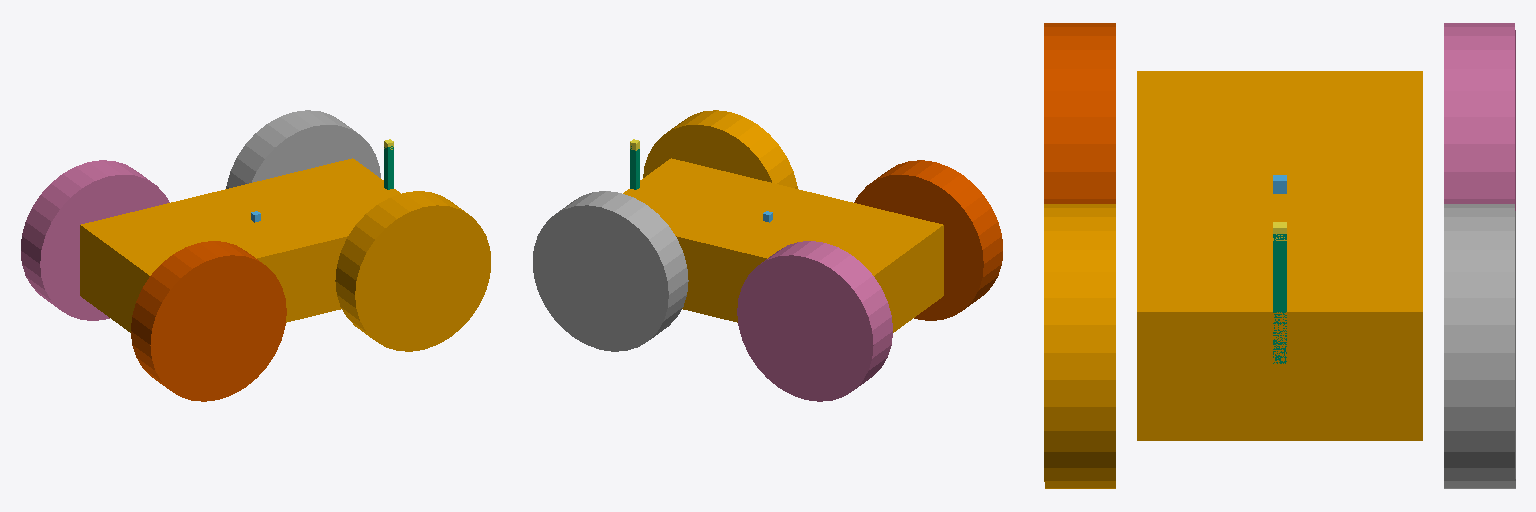
URDF robot description (capra_robot):
<?xml version="1.0" ?>
<robot name="capra_robot">

    <!-- Joint that fixes IMU centered on top of base link -->
    <joint name="capra_robot__IMU_joint" type="fixed">
        <!-- Parent = base_link -->
        <parent link="base_link" />
        <!-- Child = the IMU -->
        <child link="capra_robot__IMU" />
        
        <!-- Center in on the base link and on top
        knowing base_link is .1 in z axis geometry -->
        <origin rpy="0  0  0" xyz="0  0  0.135" />

        <!-- Auto-generated -->
        <axis xyz="0  0  1" />
        <limit effort="0" lower="0" upper="0" velocity="0" />
    </joint>

    <!-- Joint that fixes base_link to the sensor tower -->
    <joint name="capra_robot__sensor_tower_joint" type="fixed">

        <!-- Parent = base_link -->
        <parent link="base_link"/>
        <!-- Child = sensor tower -->
        <child link="capra_robot__sensor_tower"/>
        <!-- The base link is 0.2 units long, so we center
        the joint so that its edge ends at 0.2 units 
        and it is 0.22 units tall -->
        <origin rpy="0  0  0" xyz="0.195  0     0.16"/>

        <!-- Auto-generated -->
        <axis xyz="0  0  1"/>
        <limit effort="0" lower="0" upper="0" velocity="0"/>
    </joint>
    
    <!-- Joint that fixes the actual laser to the sensor tower -->
    <joint name="capra_robot__laser_joint" type="fixed">

        <parent link="capra_robot__sensor_tower" />
        <child link="capra_robot__laser" />

        <origin rpy="0  0  0" xyz="0  0  0.05" />

        <!-- Auto-generated -->
        <axis xyz="0  0  1"/>
        <limit effort="0" lower="0" upper="0" velocity="0"/>
    </joint>

    <!-- Joint that fixes the camera to the sensor tower -->
    <joint name="capra_robot__camera_joint" type="fixed">

        <parent link="capra_robot__sensor_tower" />
        <child link="capra_robot__camera" />

        <origin rpy="0  0  0" xyz="0  0  0.05" />

        <!-- Auto-generated -->
        <axis xyz="0  0  1"/>
        <limit effort="0" lower="0" upper="0" velocity="0"/>
    </joint>

    <!-- Joint around which the front-right wheel revolves around  -->
    <joint name="capra_robot__right_wheel_front_hinge" type="revolute">

        <!-- Parent = base_link -->
        <parent link="base_link"/>
        <!-- Child = front-right wheel -->
        <child link="capra_robot__right_wheel_front"/>
        <!-- The center of the wheel must be at 0.15, since its radius
        is 0.5 an must be within 0.1 to 0.2 of the base link's length 
        and is almost 0.1 units high from its center -->
        <origin rpy="0      1.5707  1.5707" xyz="0.14999 -0.17     0.09999"/>
        <!-- Revolution occurs around Y axis -->
        <axis xyz="0  0  1"/>

        <!-- Auto-generated -->
        <limit effort="-1.0" lower="-1.79769e+308" upper="1.79769e+308" velocity="-1.0"/>
    </joint>

    <!-- Joint around which the front-left wheel revolves around  -->
    <joint name="capra_robot__left_wheel_front_hinge" type="revolute">

        <!-- See capra_robot__right_wheel_front documentation  
        to understand following tags -->
        <parent link="base_link"/>
        <child link="capra_robot__left_wheel_front"/>
        <origin rpy="0      1.5707  1.5707" xyz="0.15  0.17  0.1"/>
        <axis xyz="0  0  1"/>
        <limit effort="-1.0" lower="-1.79769e+308" upper="1.79769e+308" velocity="-1.0"/>
    </joint>

    <!-- Joint around which the back-right wheel revolves around  -->
    <joint name="capra_robot__right_wheel_back_hinge" type="revolute">

        <!-- See capra_robot__right_wheel_front documentation  
        to understand following tags -->
        <parent link="base_link"/>
        <child link="capra_robot__right_wheel_back"/>
        <origin rpy="0      1.5707  1.5707" xyz="-0.15    -0.17     0.09999"/>
        <axis xyz="0  0  1"/>
        <limit effort="-1.0" lower="-1.79769e+308" upper="1.79769e+308" velocity="-1.0"/>
    </joint>

    <!-- Joint around which the back-left wheel revolves around  -->
    <joint name="capra_robot__left_wheel_back_hinge" type="revolute">

        <!-- See capra_robot__right_wheel_front documentation
        to understand following tags -->
        <parent link="base_link"/>
        <child link="capra_robot__left_wheel_back"/>
        <origin rpy="0      1.5707  1.5707" xyz="-0.14999  0.17     0.1"/>
        <axis xyz="0  0  1"/>
        <limit effort="-1.0" lower="-1.79769e+308" upper="1.79769e+308" velocity="-1.0"/>
    </joint>

    <!-- The robot's base link  -->
    <link name="base_link">

        <inertial>
            <mass value="23.124"/>
            <origin rpy="0  0  0" xyz="0   0   0.1"/>
            <inertia ixx="0.660306" ixy="-1.78746e-18" ixz="0" iyy="0.303669" iyz="8.59691e-17" izz="0.815602"/>
        </inertial>

        <collision name="capra_robot__collision">
            <origin rpy="0  0  0" xyz="0   0   0.1"/>
            <geometry>
                <box size=".4 .2 .1"/>
            </geometry>
        </collision>

        <visual name="capra_robot__visual">
            <origin rpy="0  0  0" xyz="0   0   0.1"/>
            <geometry>
                <box size=".4 .2 .1"/>
            </geometry>
        </visual>

    </link>

    <!-- IMU link -->
    <link name="capra_robot__IMU">

        <inertial>
            <mass value=".1"/>
            <origin rpy="0  0  0" xyz="0  0  0"/>
            <inertia ixx="0" ixy="0.0" ixz="0.0" iyy="0" iyz="0.0" izz="0" />
        </inertial>

        <collision name="capra_robot__collision">
            <origin rpy="0  0  0" xyz="0  0  0"/>
            <geometry>
                <box size=".01 .01 .05"/>
            </geometry>
        </collision>
        
        <visual name="capra_robot__visual">
            <origin rpy="0  0  0" xyz="0  0  0"/>
            <geometry>
                <box size=".01 .01 .05"/>
            </geometry>
        </visual>
    </link>

    <!-- The tower onto which the laser is located -->
    <link name="capra_robot__sensor_tower">
        
        <inertial>
            <mass value="1.0"/>
            <origin rpy="0  0  0" xyz="0  0  0"/>
            <inertia ixx="0" ixy="0.0" ixz="0.0" iyy="0" iyz="0.0" izz="0" />
        </inertial>
        
        <collision name="capra_robot__collision">
            <origin rpy="0  0  0" xyz="0  0  0"/>
            <geometry>
                <box size=".01 .01 .1"/>
            </geometry>
        </collision>
        
        <visual name="capra_robot__visual">
            <origin rpy="0  0  0" xyz="0  0  0"/>
            <geometry>
                <box size=".01 .01 .1"/>
            </geometry>
        </visual>
    </link>

    <!-- laser link -->
    <link name="capra_robot__laser">
        <inertial>
            <mass value=".1"/>
            <origin rpy="0  0  0" xyz="0  0  0"/>
            <inertia ixx="0" ixy="0.0" ixz="0.0" iyy="0" iyz="0.0" izz="0" />
        </inertial>

        <collision name="capra_robot__collision">
            <origin rpy="0  0  0" xyz="0  0  0"/>
            <geometry>
                <box size=".01 .01 .01"/>
            </geometry>
        </collision>
        
        <visual name="capra_robot__visual">
            <origin rpy="0  0  0" xyz="0  0  0"/>
            <geometry>
                <box size=".01 .01 .01"/>
            </geometry>
        </visual>
    </link>

    <!-- camera link -->
    <link name="capra_robot__camera">
        <inertial>
            <mass value=".1"/>
            <origin rpy="0  0  0" xyz="0  0  0"/>
            <inertia ixx="0" ixy="0.0" ixz="0.0" iyy="0" iyz="0.0" izz="0" />
        </inertial>

        <collision name="capra_robot__collision">
            <origin rpy="0  0  0" xyz="0  0  0"/>
            <geometry>
                <box size=".01 .01 .01"/>
            </geometry>
        </collision>
        
        <visual name="capra_robot__visual">
            <origin rpy="0  0  0" xyz="0  0  0"/>
            <geometry>
                <box size=".01 .01 .01"/>
            </geometry>
        </visual>
    </link>

    <!-- The back-right wheel -->
    <link name="capra_robot__right_wheel_back">
      
        <inertial>
            <mass value="1.0"/>
            <origin rpy="0  0  0" xyz="0    0    0.03"/>
            <inertia ixx="0.145833" ixy="0" ixz="0" iyy="0.145833" iyz="0" izz="0.125"/>
        </inertial>
        
        <collision name="capra_robot__collision">
            <origin rpy="0  0  0" xyz="0    0    0.03"/>
            <geometry>
                <cylinder length=".05" radius=".1"/>
            </geometry>
            <!-- <surface>
                <friction>
                    <ode>
                        <mu>0.01</mu>
                        <mu2>0.01</mu2>
                    </ode>
                </friction>
            </surface> -->
        </collision>
        
        <visual name="capra_robot__visual">
            <origin rpy="0  0  0" xyz="0    0    0.03"/>
            <geometry>
                <cylinder length=".05" radius=".1"/>
            </geometry>
        </visual>
    </link>

    <!-- The back-left wheel -->
    <link name="capra_robot__left_wheel_back">
      
        <inertial>
            <mass value="1.0"/>
            <origin rpy="0  0  0" xyz="0    0   -0.03"/>
            <inertia ixx="0.145833" ixy="0" ixz="0" iyy="0.145833" iyz="0" izz="0.125"/>
        </inertial>
        
        <collision name="capra_robot__collision">
            <origin rpy="0  0  0" xyz="0    0   -0.03"/>
            <geometry>
                <cylinder length=".05" radius=".1"/>
            </geometry>
            <!-- <surface>
                <friction>
                    <ode>
                        <mu>0.01</mu>
                        <mu2>0.01</mu2>
                    </ode>
                </friction>
            </surface> -->
        </collision>
        
        <visual name="capra_robot__visual">
            <origin rpy="0  0  0" xyz="0    0   -0.03"/>
            <geometry>
                <cylinder length=".05" radius=".1"/>
            </geometry>
        </visual>
    </link>

    <!-- The front-left wheel -->
    <link name="capra_robot__left_wheel_front">
      
        <inertial>
            <mass value="1.0"/>
            <origin rpy="0  0  0" xyz="0    0   -0.03"/>
            <inertia ixx="0.145833" ixy="0" ixz="0" iyy="0.145833" iyz="0" izz="0.125"/>
        </inertial>
        
        <collision name="capra_robot__collision">
            <origin rpy="0  0  0" xyz="0    0   -0.03"/>
            <geometry>
                <cylinder length=".05" radius=".1"/>
            </geometry>
            <!-- <surface>
                <friction>
                    <ode>
                        <mu>0.01</mu>
                        <mu2>0.01</mu2>
                    </ode>
                </friction>
            </surface> -->
        </collision>
        
        <visual name="capra_robot__visual">
            <origin rpy="0  0  0" xyz="0    0   -0.03"/>
            <geometry>
                <cylinder length=".05" radius=".1"/>
            </geometry>
        </visual>
    </link>

    <!-- The front-right wheel -->
    <link name="capra_robot__right_wheel_front">
      
        <inertial>
            <mass value="1.0"/>
            <origin rpy="0  0  0" xyz="0    0    0.03"/>
            <inertia ixx="0.145833" ixy="0" ixz="0" iyy="0.145833" iyz="0" izz="0.125"/>
        </inertial>
      
        <collision name="capra_robot__collision">
            <origin rpy="0  0  0" xyz="0    0    0.03"/>
            <geometry>
                <cylinder length=".05" radius=".1"/>
            </geometry>
            <!-- <surface>
                <friction>
                    <ode>
                        <mu>0.01</mu>
                        <mu2>0.01</mu2>
                    </ode>
                </friction>
            </surface> -->
        </collision>
      
        <visual name="capra_robot__visual">
            <origin rpy="0  0  0" xyz="0    0    0.03"/>
            <geometry>
                <cylinder length=".05" radius=".1"/>
            </geometry>
        </visual>
    </link>

    <!-- laser -->
    <gazebo reference="capra_robot__laser">
        <!-- <gravity>false</gravity> -->
        <material>Gazebo/Red</material>

        <sensor type="ray" name="sensor">

            <!-- Position the ray sensor based on the specification. Also rotate
                    it by 90 degrees around the X-axis so that the <horizontal> rays
                    become vertical -->
            <!-- Note => The pose doesn't seem to work -->
            <pose>0 0 0 0 0 0</pose>

            <!-- Enable visualization to see the rays in the GUI -->
            <visualize>true</visualize>

            <!-- Set the update rate of the sensor -->
            <update_rate>30</update_rate>

            <ray>

                <!-- The scan element contains the horizontal and vertical beams.
                    We are leaving out the vertical beams for this tutorial. -->
                <scan>

                    <!-- The horizontal beams -->
                    <horizontal>
                        <!-- The velodyne has 32 beams(samples) -->
                        <samples>540</samples>

                        <resolution>1</resolution>

                        <!-- Minimum angle in radians -->
                        <min_angle>-2.3562</min_angle>

                        <!-- Maximum angle in radians -->
                        <max_angle>2.3562</max_angle>
                    </horizontal>
                </scan>

                <!-- Range defines characteristics of an individual beam -->
                <range>
                    <!-- Minimum distance of the beam -->
                    <min>0.2</min>

                    <!-- Maximum distance of the beam -->
                    <max>8</max>

                    <!-- Linear resolution of the beam -->
                    <resolution>1</resolution>
                </range>

                <!-- <noise>
                    <type>gaussian</type>
                    <mean>0.0</mean>
                    <stddev>0.01</stddev>
                </noise> -->
            </ray>

            <plugin name="laser" filename="libgazebo_ros_laser.so">
                <topicName>/scan</topicName>
                <frameName>capra_robot__laser</frameName>
            </plugin>

            <always_on>1</always_on>
            <visualize>true</visualize>
        </sensor>
    </gazebo>
    
    <!-- camera -->
    <gazebo reference="capra_robot__camera">

        <sensor type="camera" name="capra_camera">
            <update_rate>30.0</update_rate>
            <camera name="head">
                <horizontal_fov>1.3962634</horizontal_fov>
                <image>
                    <width>800</width>
                    <height>800</height>
                    <format>R8G8B8</format>
                </image>
                <clip>
                    <near>0.02</near>
                    <far>300</far>
                </clip>
                <noise>
                    <type>gaussian</type>
                    <!-- Noise is sampled independently per pixel on each frame.
                        That pixel's noise value is added to each of its color
                        channels, which at that point lie in the range [0,1]. -->
                    <mean>0.0</mean>
                    <stddev>0.007</stddev>
                </noise>
            </camera>
            <plugin name="camera_controller" filename="libgazebo_ros_camera.so">
                <alwaysOn>true</alwaysOn>
                <updateRate>10.0</updateRate>
                <cameraName>capra/simulation/camera</cameraName>
                <imageTopicName>image_raw</imageTopicName>
                <cameraInfoTopicName>camera_info</cameraInfoTopicName>
                <frameName>camera_link</frameName>
                <hackBaseline>0.07</hackBaseline>
                <distortionK1>0.0</distortionK1>
                <distortionK2>0.0</distortionK2>
                <distortionK3>0.0</distortionK3>
                <distortionT1>0.0</distortionT1>
                <distortionT2>0.0</distortionT2>
            </plugin>
        </sensor>
    </gazebo>

    <!-- IMU -->
    <gazebo reference="capra_robot__IMU">
        <!-- IMU needs gravity -->
        <gravity>true</gravity>

        <sensor name="imu_sensor" type="imu">

            <always_on>true</always_on>
            <update_rate>20</update_rate>
            <visualize>true</visualize>
            <topic>capra/simulation/IMU</topic>
            <pose>0 0 0 0 0 0</pose>

            <plugin filename="libgazebo_ros_imu_sensor.so" name="imu_plugin">
                <topicName>capra/simulation/IMU</topicName>
                <bodyName>imu_link</bodyName>
                <updateRateHZ>5.0</updateRateHZ>
                <gaussianNoise>0.0</gaussianNoise>
                <xyzOffset>0 0 0</xyzOffset>
                <rpyOffset>0 0 0</rpyOffset>
                <frameName>capra_robot__IMU</frameName>
            </plugin>
        </sensor>
    </gazebo>

    <!-- Controller -->
    <gazebo>
        <plugin name="object_controller" filename="libgazebo_ros_planar_move.so">
            <commandTopic>/cmd_vel</commandTopic>
            <odometryTopic>/odom</odometryTopic>
            <odometryFrame>odom</odometryFrame>
            <odometryRate>5.0</odometryRate>
            <robotBaseFrame>base_link</robotBaseFrame>
        </plugin>
    </gazebo>


</robot>

--- Facts derived from the render (not from the file) ---
Views: 3 orthographic renders of the robot side by side, from view 1: azimuth 30°, elevation 25°; view 2: azimuth 150°, elevation 25°; view 3: azimuth 270°, elevation 25°.
Robot: capra_robot — 9 links, 8 joints (4 revolute, 4 fixed); root link base_link; default pose: every joint at zero.
Visible links, largest first — view 1: base_link, capra_robot__right_wheel_back, capra_robot__right_wheel_front, capra_robot__left_wheel_back, capra_robot__left_wheel_front; view 2: base_link, capra_robot__left_wheel_back, capra_robot__left_wheel_front, capra_robot__right_wheel_back, capra_robot__right_wheel_front; view 3: base_link, capra_robot__left_wheel_front, capra_robot__right_wheel_front, capra_robot__right_wheel_back, capra_robot__left_wheel_back, capra_robot__sensor_tower.
Boxes of the visible links, x1,y1,x2,y2 form: base_link: (80,158,400,332); capra_robot__right_wheel_back: (131,241,286,401); capra_robot__right_wheel_front: (335,191,490,351); capra_robot__left_wheel_back: (21,160,169,320); capra_robot__left_wheel_front: (226,110,380,188); base_link: (623,158,943,332); capra_robot__left_wheel_back: (737,241,892,401); capra_robot__left_wheel_front: (533,191,688,351); capra_robot__right_wheel_back: (854,160,1002,320); capra_robot__right_wheel_front: (643,110,797,188); base_link: (1137,71,1422,440); capra_robot__left_wheel_front: (1444,204,1515,488); capra_robot__right_wheel_front: (1044,204,1115,488); capra_robot__right_wheel_back: (1044,23,1115,203); capra_robot__left_wheel_back: (1444,23,1515,210); capra_robot__sensor_tower: (1273,234,1286,363).
Size in the robot's own frame: 0.5 by 0.33 by 0.215 metres.
Geometry: primitives only (box / cylinder / sphere), no mesh files.
